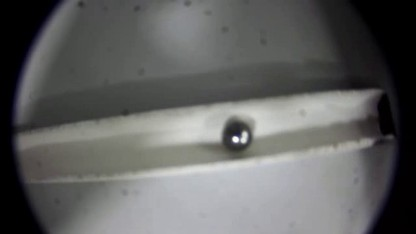gangzhu: (222, 117, 255, 151)
